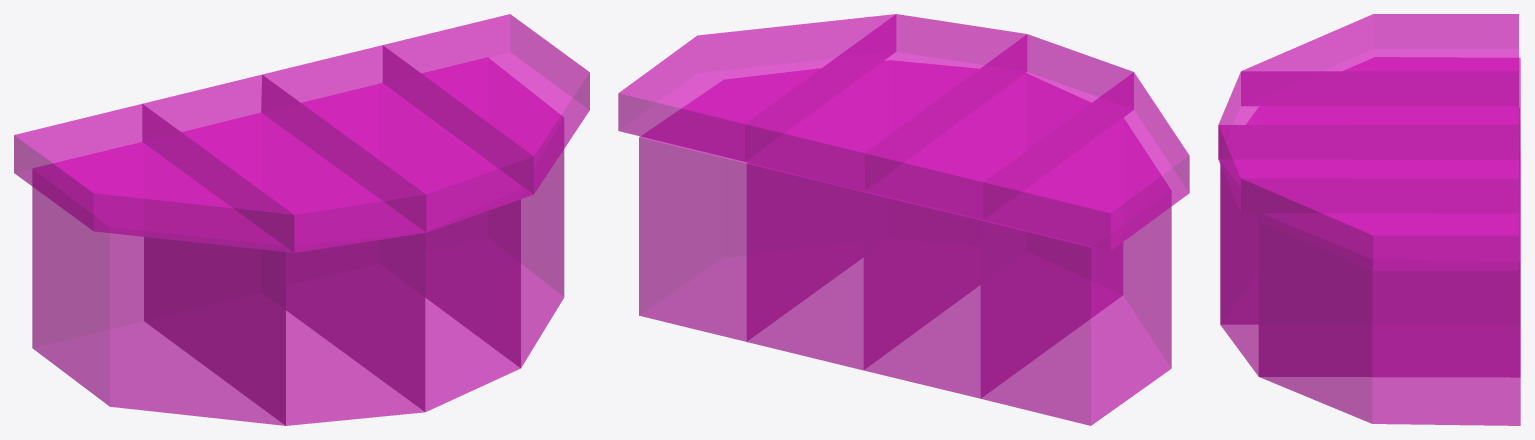
Rendered from SM_Prop_Blackjack_Table_01_Collision.fbx.
The picture shows the model from 3 angles, left to right: view 1: azimuth 30°, elevation 25°; view 2: azimuth 150°, elevation 25°; view 3: azimuth 270°, elevation 25°; orthographic projection. The views are drawn at different scales.
Visible parts, largest first — view 1: SM_Prop_Blackjack_Table_01_Collision; view 2: SM_Prop_Blackjack_Table_01_Collision; view 3: SM_Prop_Blackjack_Table_01_Collision.
Part boxes in pixels (x1=…): SM_Prop_Blackjack_Table_01_Collision: x1=14, y1=14, x2=589, y2=425; SM_Prop_Blackjack_Table_01_Collision: x1=618, y1=14, x2=1189, y2=425; SM_Prop_Blackjack_Table_01_Collision: x1=1218, y1=14, x2=1520, y2=425.
Bounding box in the file's own units: 251 × 106 × 145.
